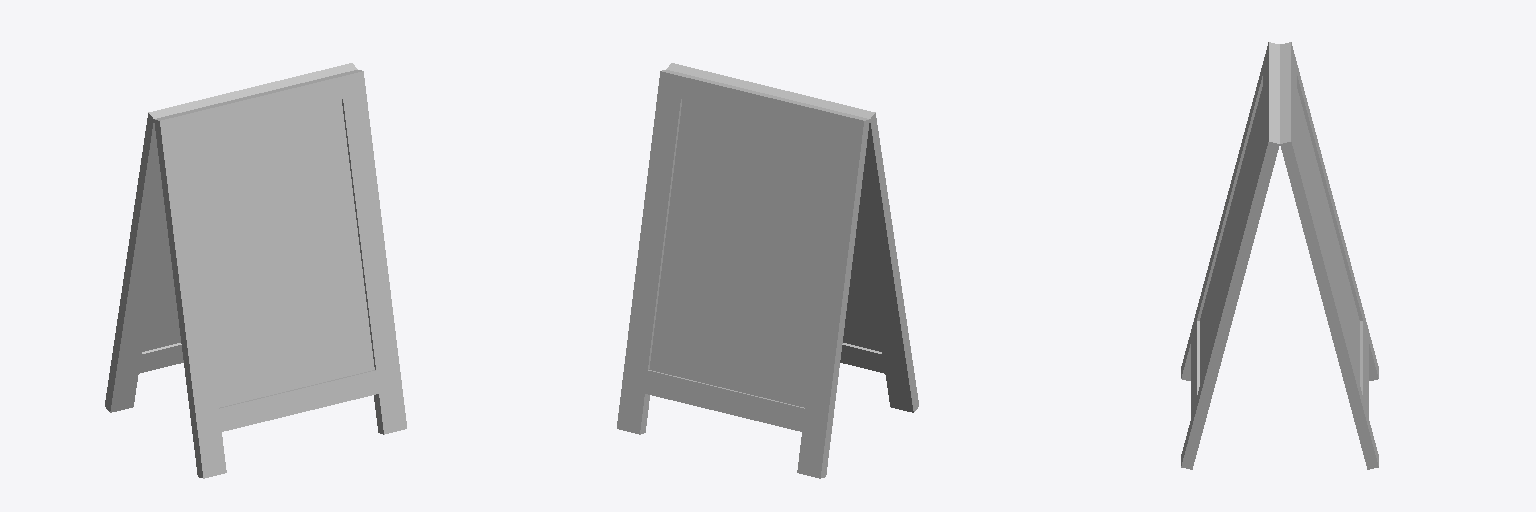
File: Sign_LOD0.obj
The picture shows the model from 3 angles: view 1: azimuth 30°, elevation 25°; view 2: azimuth 150°, elevation 25°; view 3: azimuth 270°, elevation 25°; orthographic projection.
Parts seen in each view (by area): view 1: Sign_LOD0 Sign; view 2: Sign_LOD0 Sign; view 3: Sign_LOD0 Sign.
Boxes of the visible parts, box(x1,y1,x2,y2) form: Sign_LOD0 Sign: box(105, 63, 406, 478); Sign_LOD0 Sign: box(617, 63, 918, 478); Sign_LOD0 Sign: box(1181, 42, 1378, 469).
Bounding box in the file's own units: 79.33 × 122 × 66.64.